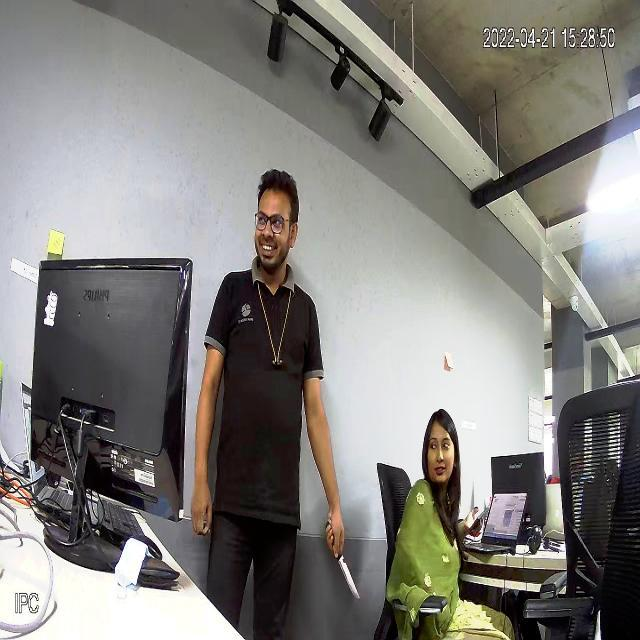Knife: (318, 519, 362, 598)
